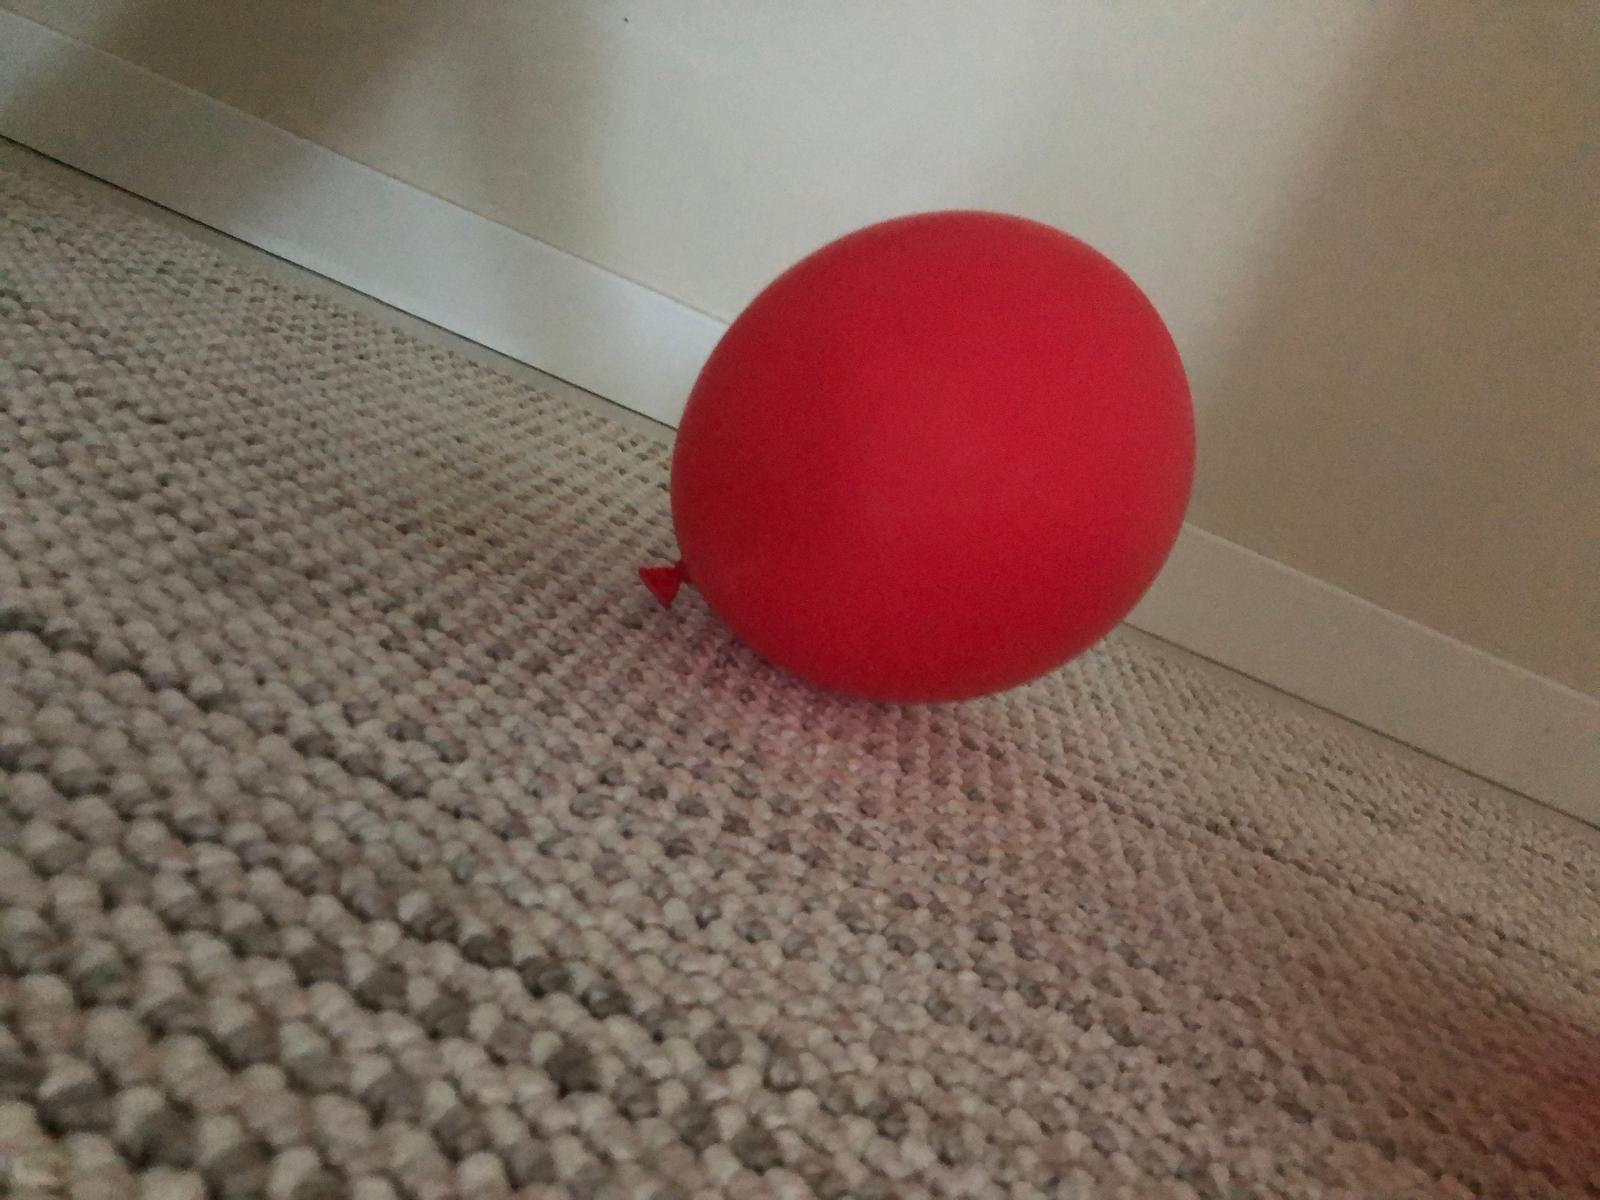red: (635, 203, 1202, 713)
